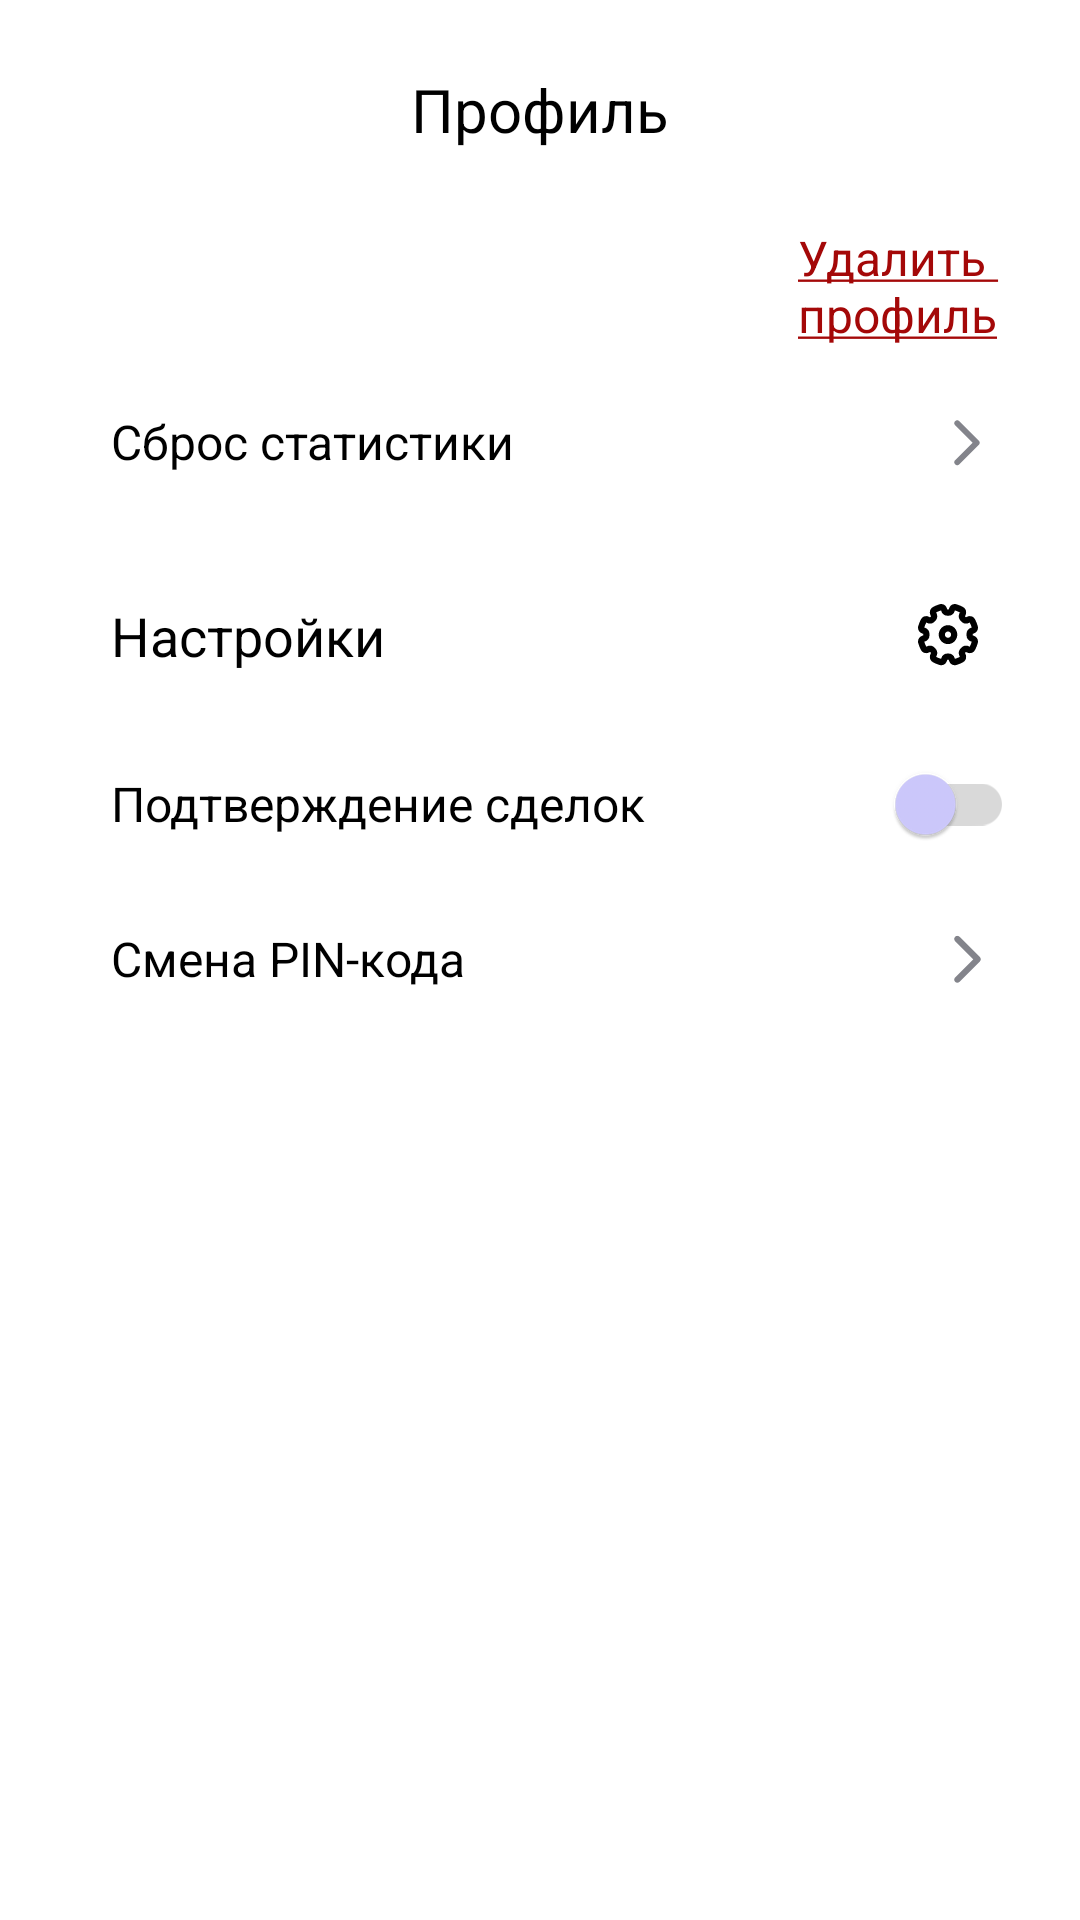

Screen size 1080 x 1920. Icon name, then its box in pixels as bbox(x1, y1, x2, y2):
arrow right: bbox(954, 420, 980, 466), bbox(954, 936, 981, 983)
gear: bbox(918, 604, 978, 666)
